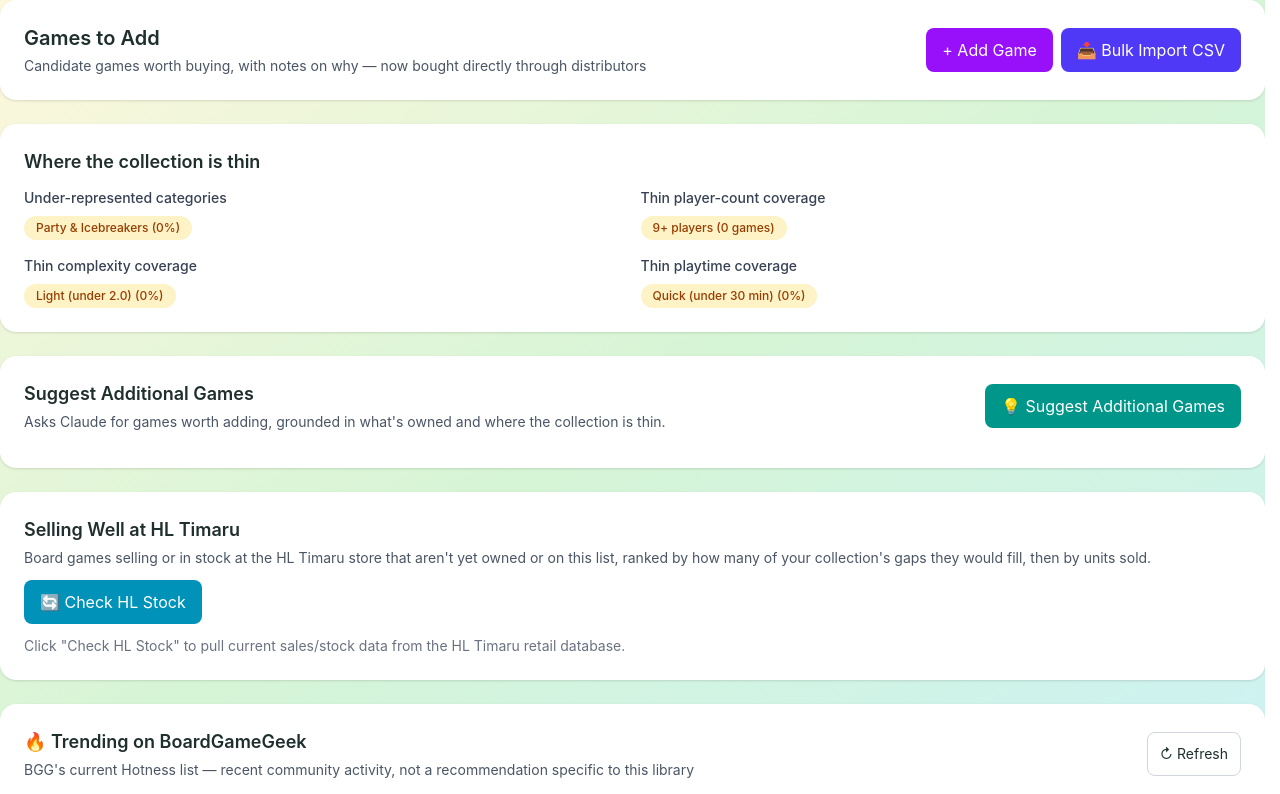
Test: BuyListTab › Add Game Modal › validates BGG ID is a positive number
Click the button "+ Add Game" at (990, 50), box [926,28,1053,72]
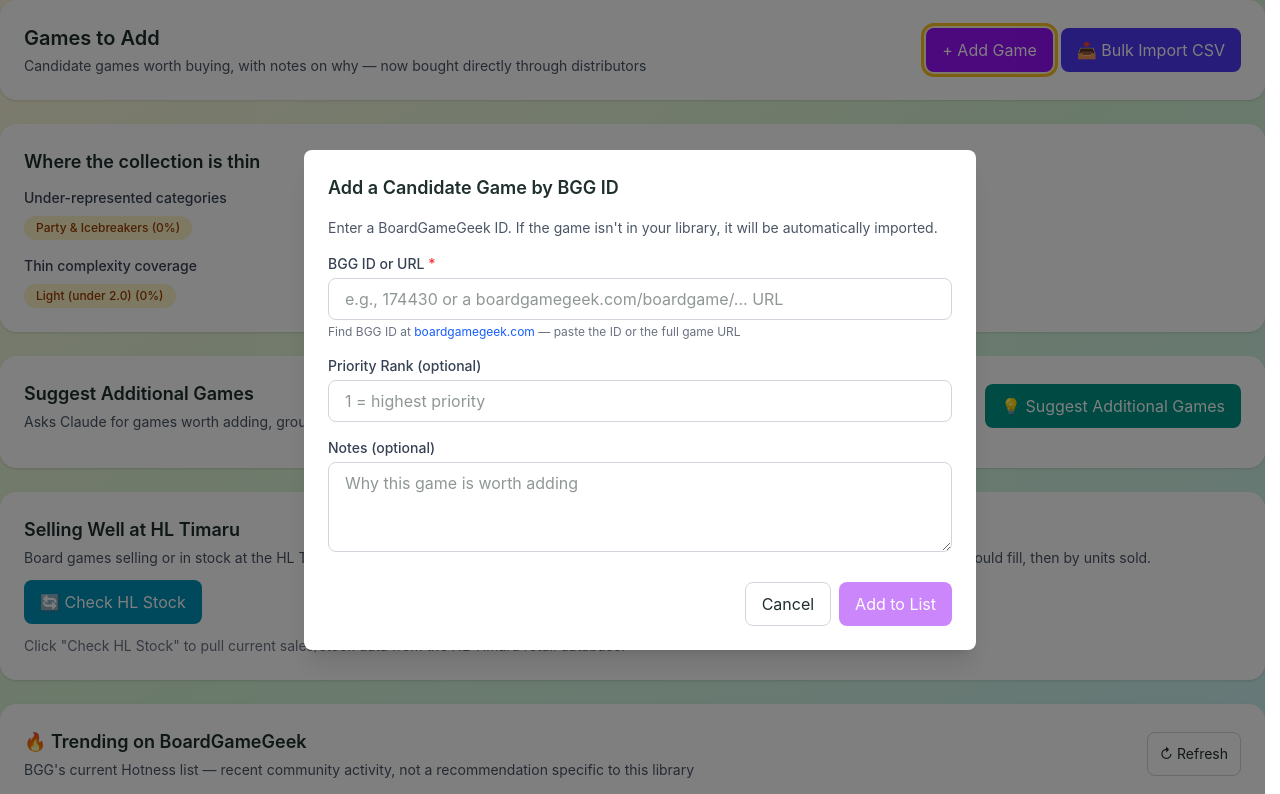
Type "-123" into the field with placeholder "e.g., 174430 or a boardgamegeek.com/boardgame/... URL" at (640, 299), box [328,278,952,320]
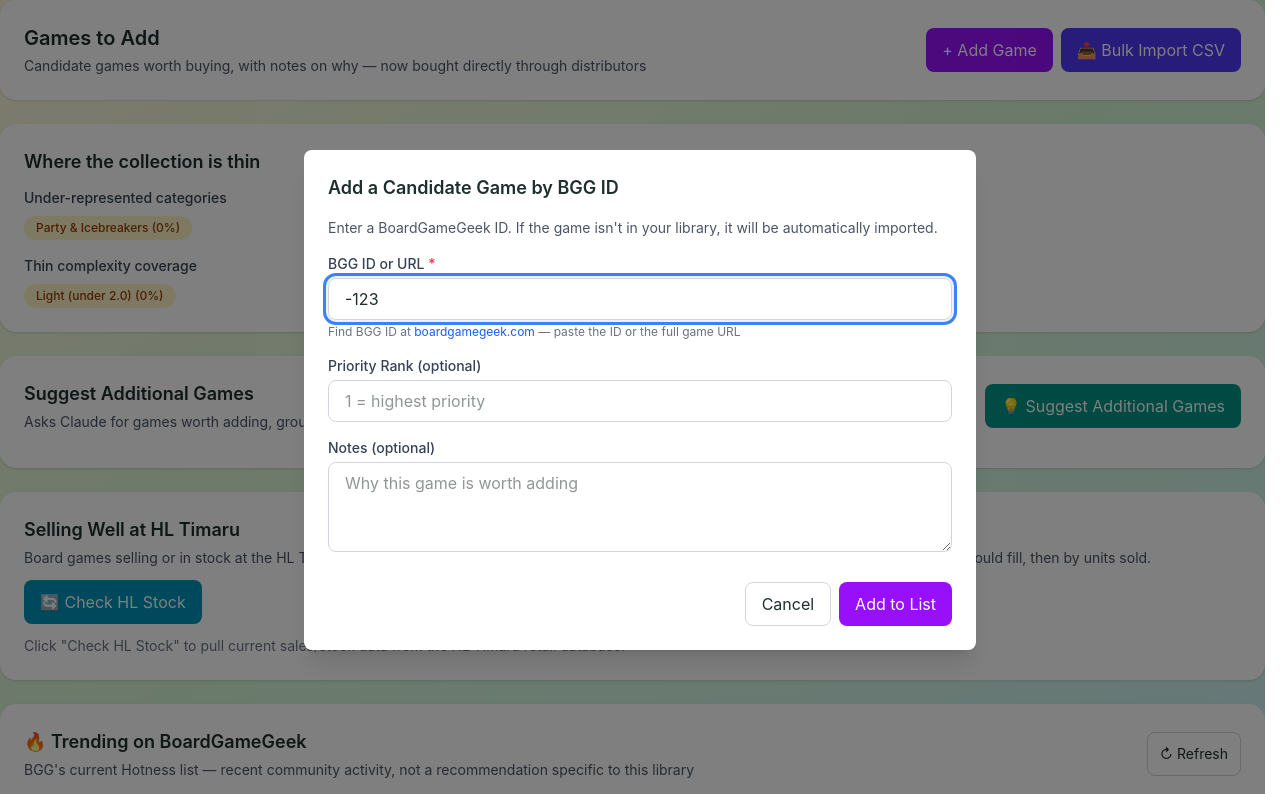
Click the button "Add to List" at (896, 604), box [839,582,952,626]
(page scrolled)
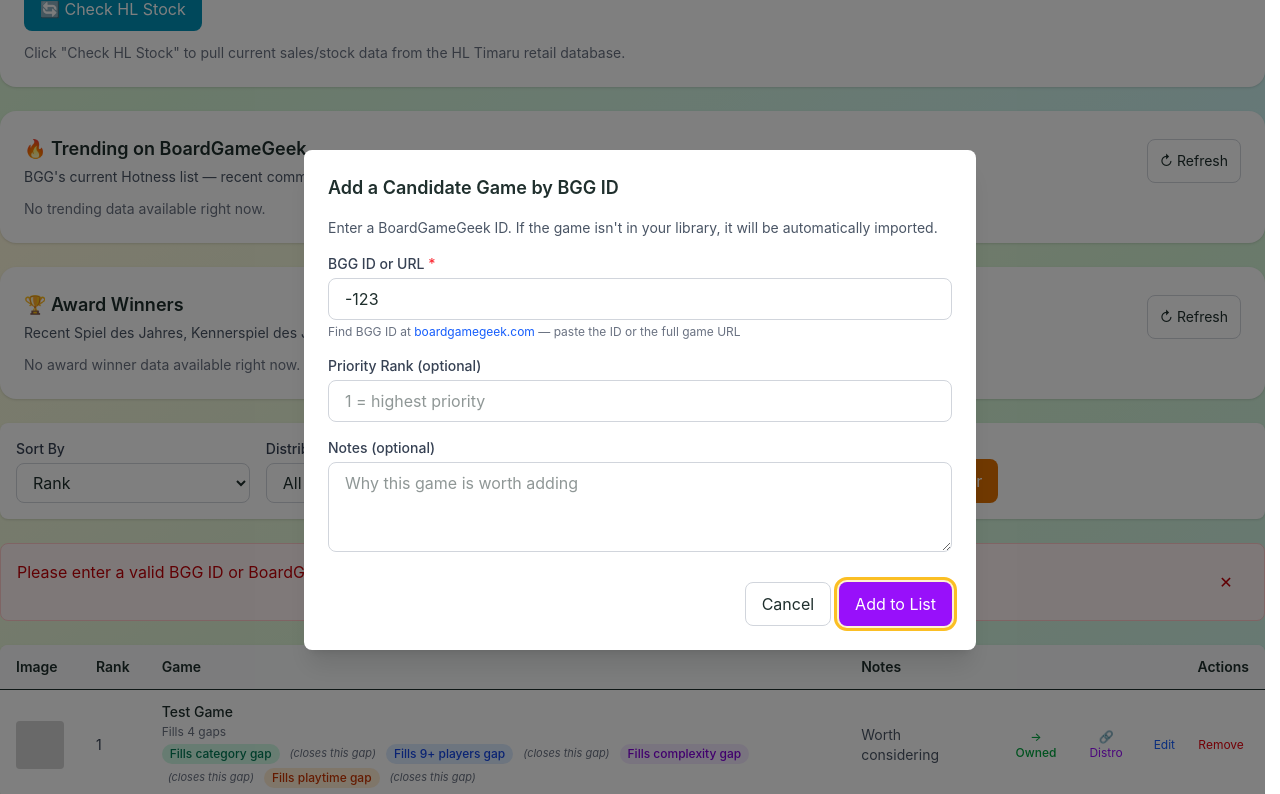
Expected: the text "Please enter a valid BGG ID or BoardGameGeek URL" is shown, [17,562,412,582]
